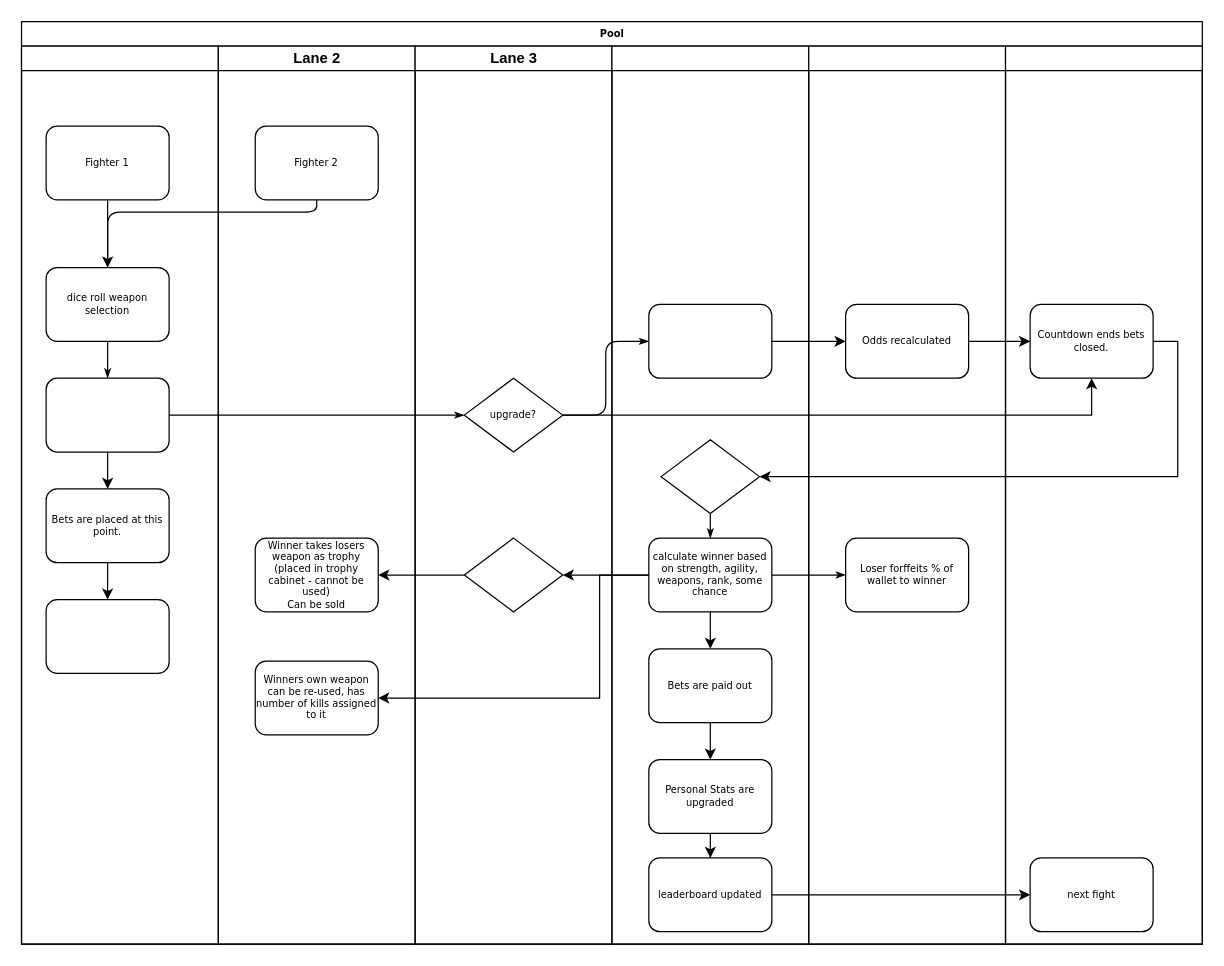
The diagram is 1224 pixels wide and 966 high, and some of its shapes have lost their labels. Each missing label, with the box of its shape:
Battle: (660, 438, 760, 514)
count down to fight timer initiated: (45, 598, 169, 673)
Display weapons: (45, 377, 169, 452)
Keep trophy?: (463, 537, 563, 612)
Lane 1: (20, 45, 218, 944)
Lane 4: (611, 45, 809, 944)
Lane 5: (807, 45, 1006, 944)
Lane 6: (1004, 45, 1202, 944)
User upgrades from shop / personal inventory: (648, 303, 772, 378)
